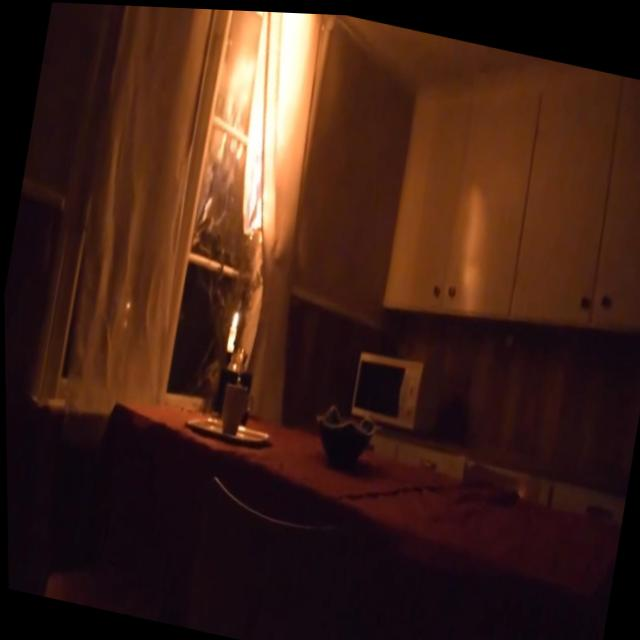fire: (216, 8, 325, 242), (229, 305, 240, 325)
